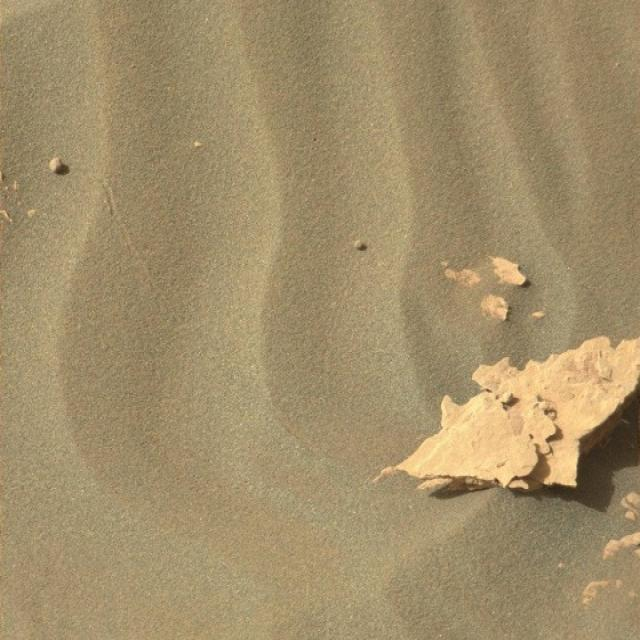mars-rocks: (383, 338, 640, 490)
